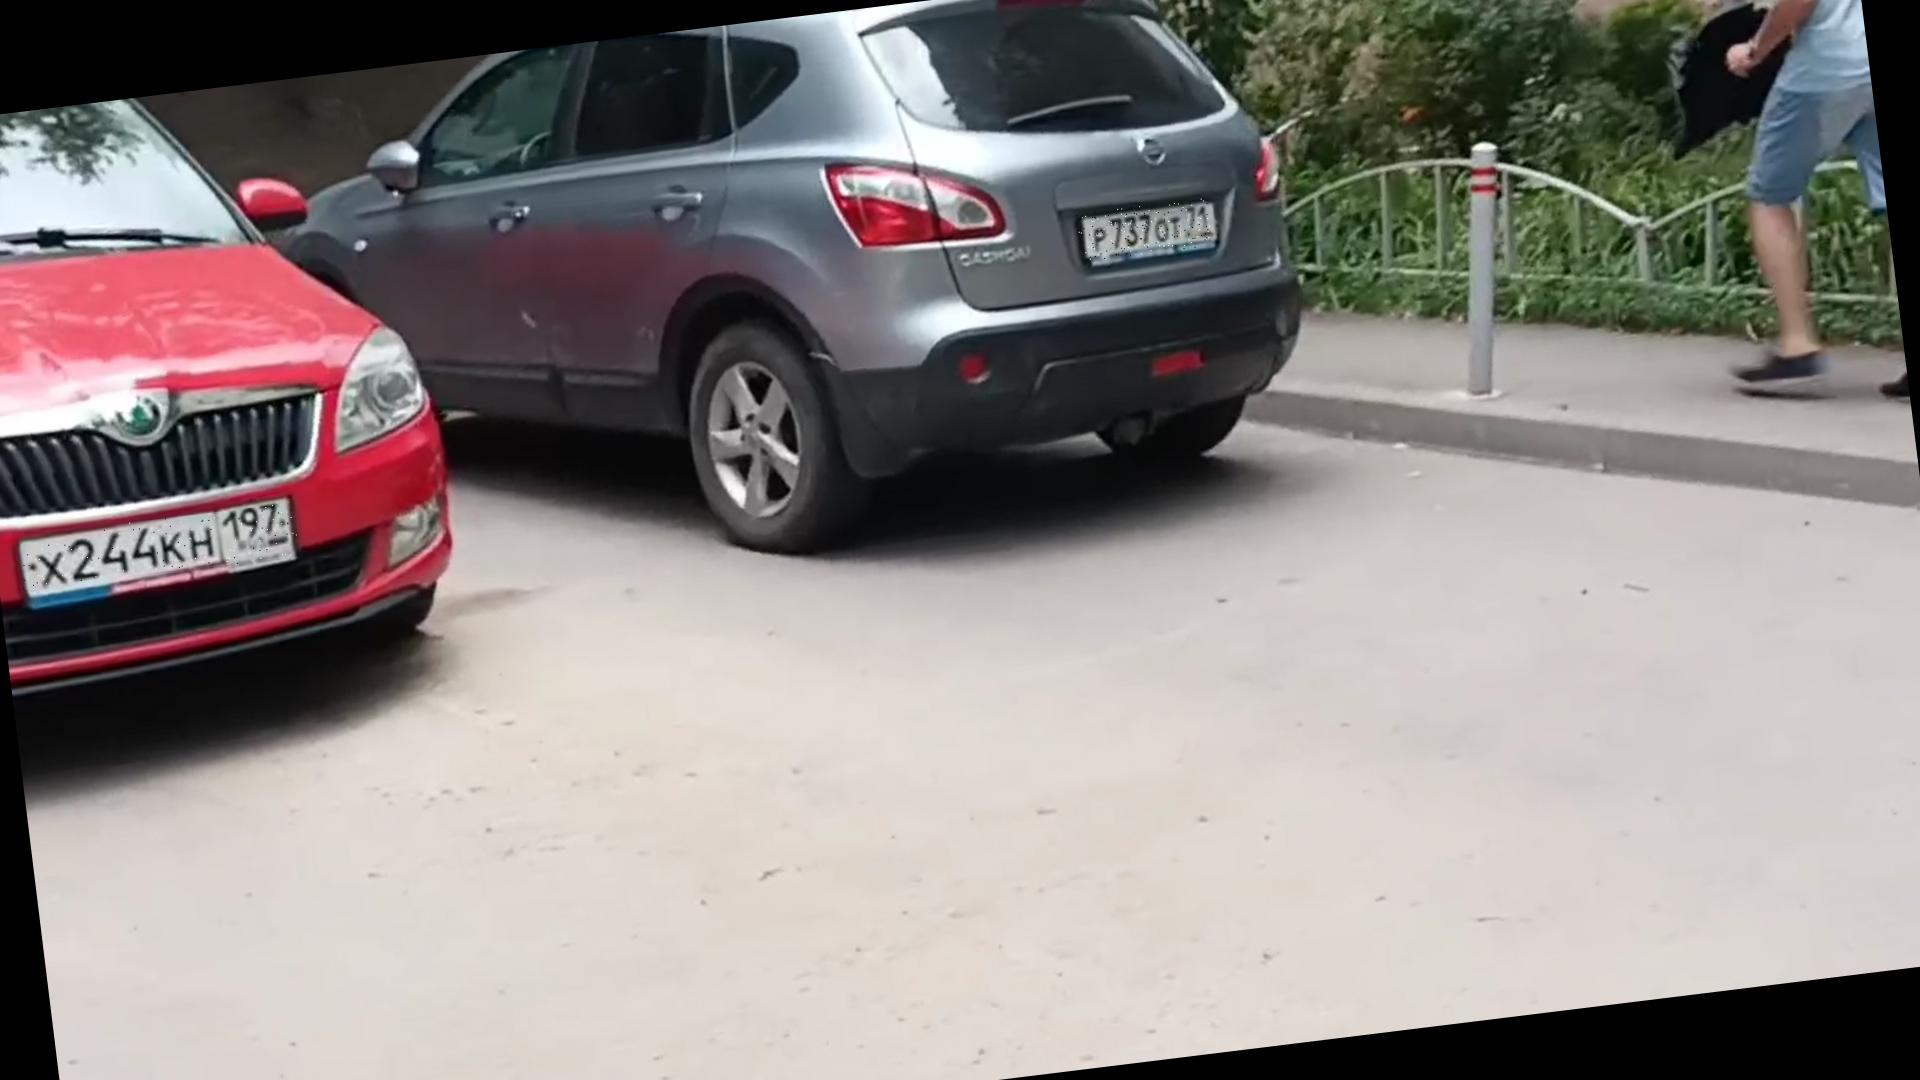plate: (18, 504, 301, 591), (1077, 199, 1214, 263)
